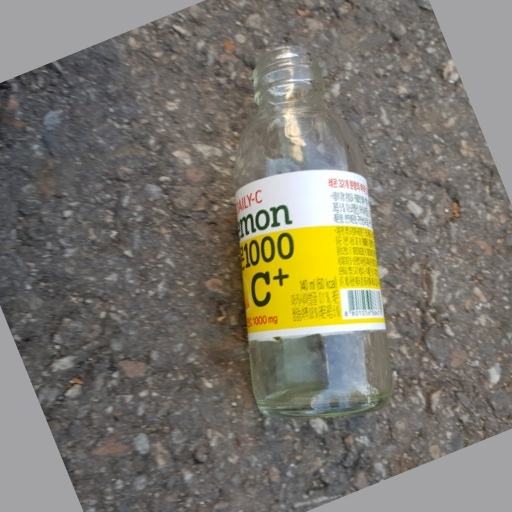Glass_4: (231, 39, 394, 428)
